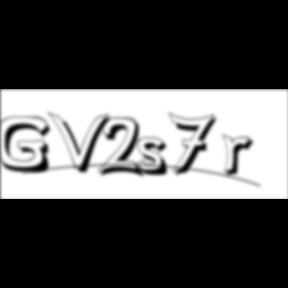2: (99, 117, 149, 181)
7: (168, 111, 224, 179)
G: (1, 116, 58, 176)
V: (48, 110, 114, 176)
r: (222, 134, 260, 180)
s: (136, 137, 176, 179)
